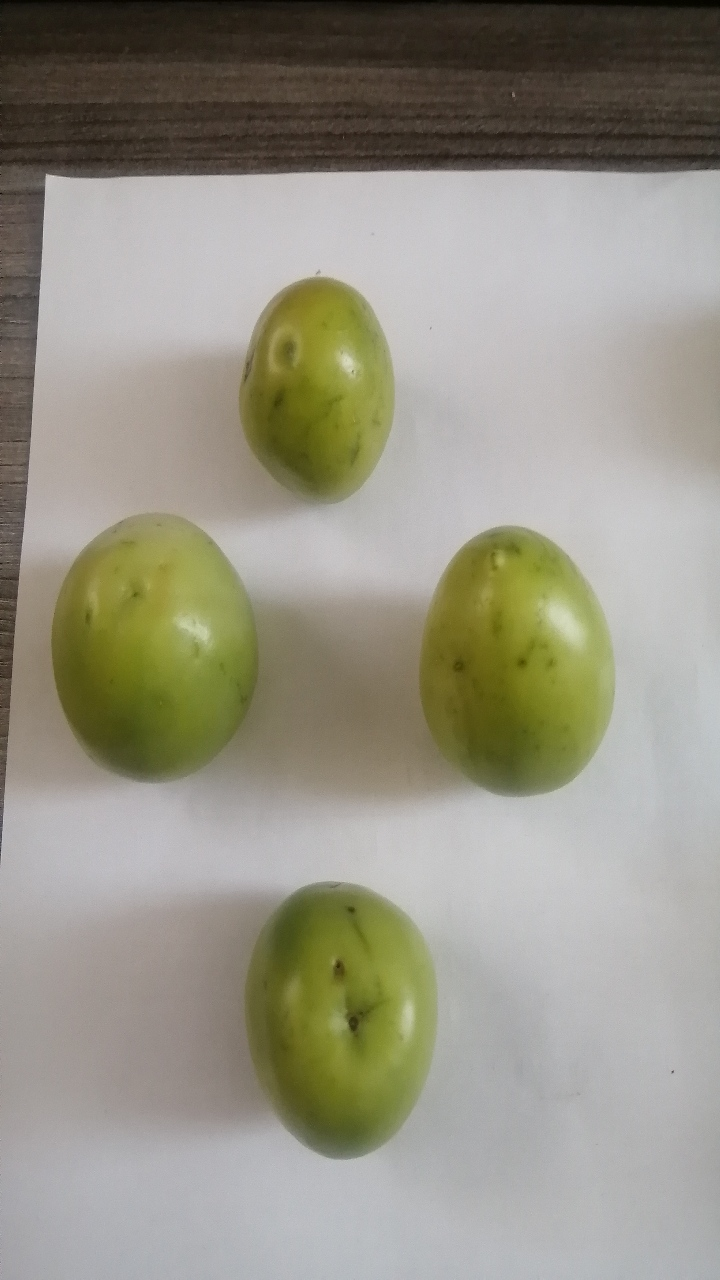tomateVerde: (392, 497, 634, 823), (224, 852, 446, 1180), (38, 500, 264, 803), (223, 240, 414, 508)
